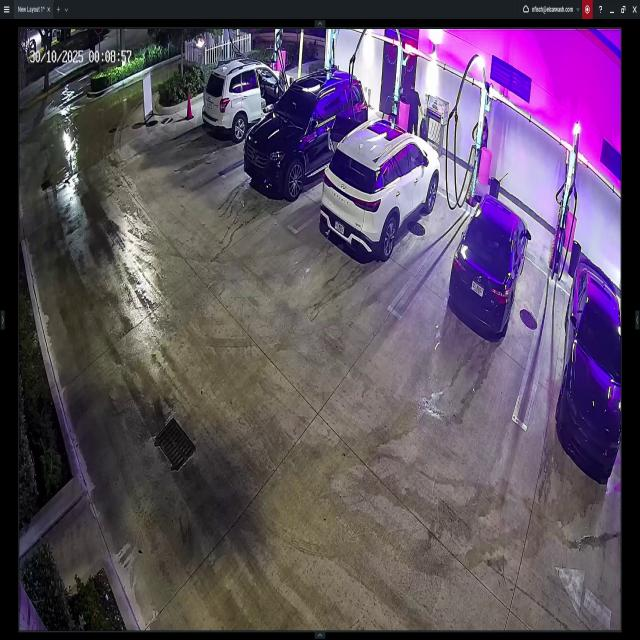Car: (320, 120, 441, 255), (245, 69, 369, 193), (557, 254, 622, 480), (445, 191, 534, 333), (202, 57, 294, 139)
